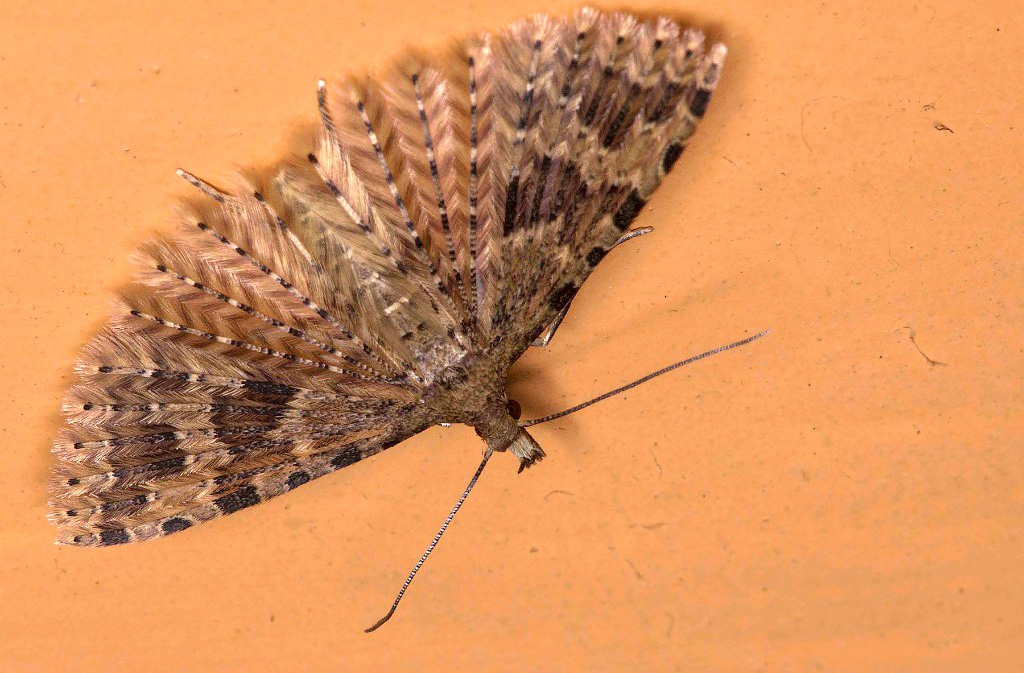Alucitidae: (57, 3, 780, 630)
moth: (55, 1, 778, 628)
